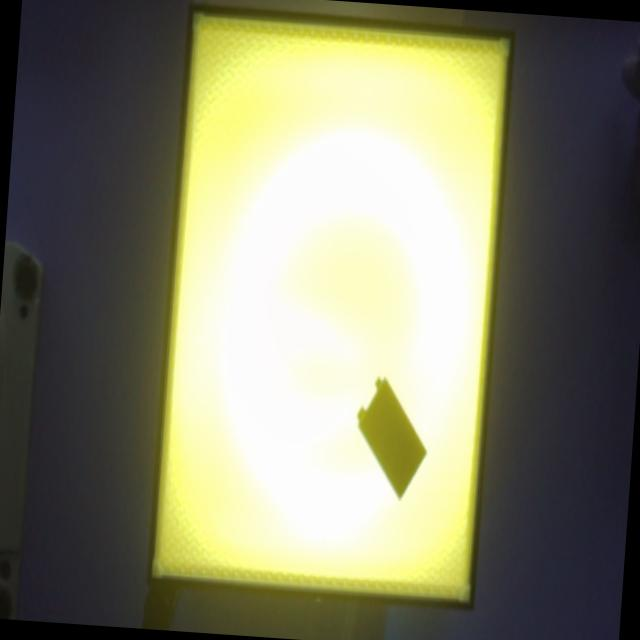bateria: (357, 375, 427, 500)
mesa: (147, 3, 515, 611)
